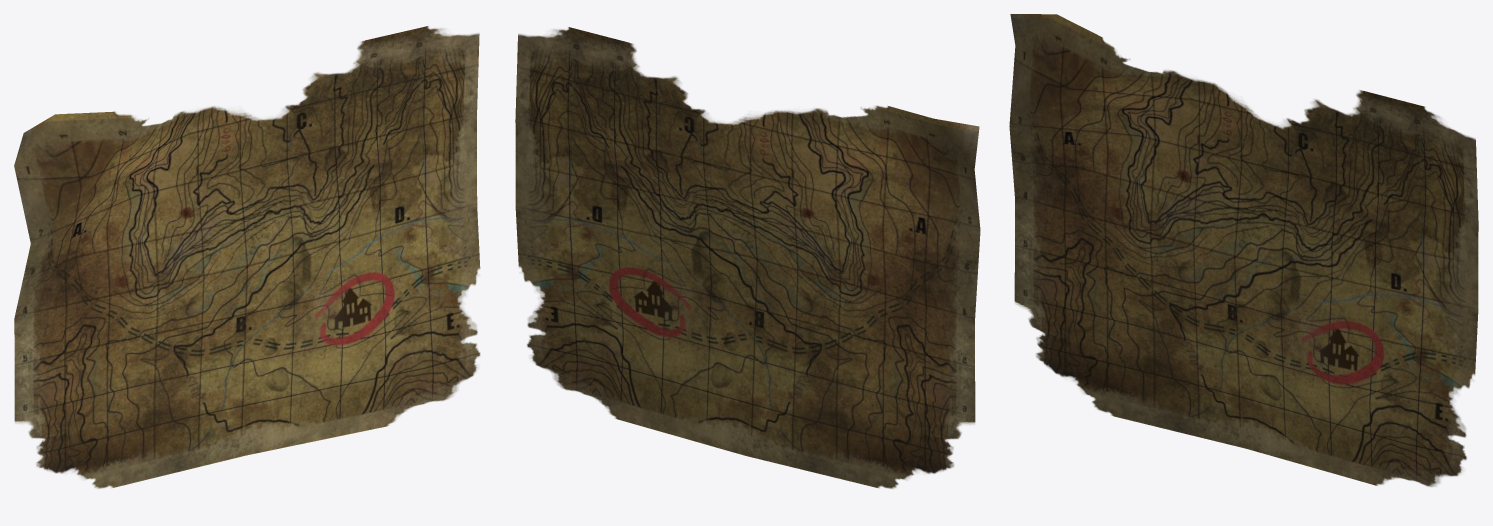
The model's file is map.glb.
3 renders of one model, left to right at view 1: azimuth 30°, elevation 25°; view 2: azimuth 150°, elevation 25°; view 3: azimuth 330°, elevation 25°, orthographic.
Parts seen in each view (by area): view 1: map001; view 2: map001; view 3: map001.
Part boxes in pixels (<box>): map001: <box>14,26,480,488</box>; map001: <box>515,27,980,488</box>; map001: <box>1009,14,1478,486</box>.
Bounding box in the file's own units: 175 × 140 × 7.48.
1 material, 1 textured.
